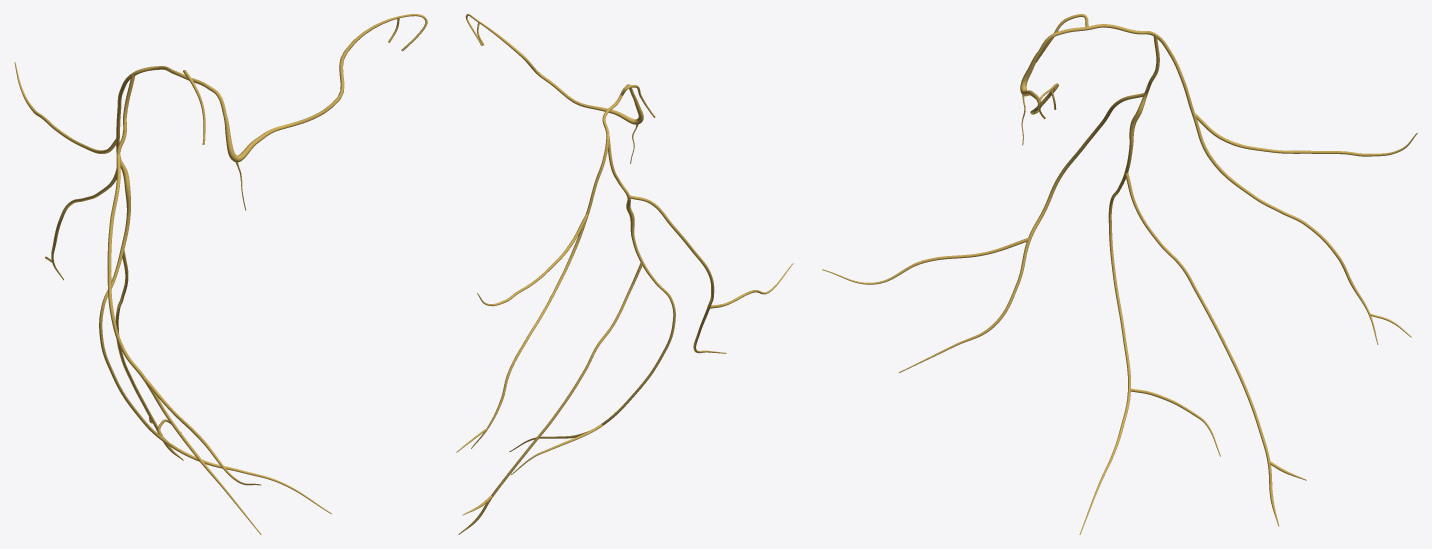
3 renders of one model, left to right at view 1: azimuth 30°, elevation 25°; view 2: azimuth 150°, elevation 25°; view 3: azimuth 270°, elevation 25°, orthographic. The views are drawn at different scales.
Visible parts, largest first — view 1: 右侧面神经; view 2: 右侧面神经; view 3: 右侧面神经.
Boxes of the visible parts, x1=… form: 右侧面神经: x1=14, y1=14, x2=427, y2=534; 右侧面神经: x1=456, y1=14, x2=793, y2=534; 右侧面神经: x1=822, y1=14, x2=1417, y2=534.
Size of the model in its own units: 0.0965 by 0.1535 by 0.1711.
